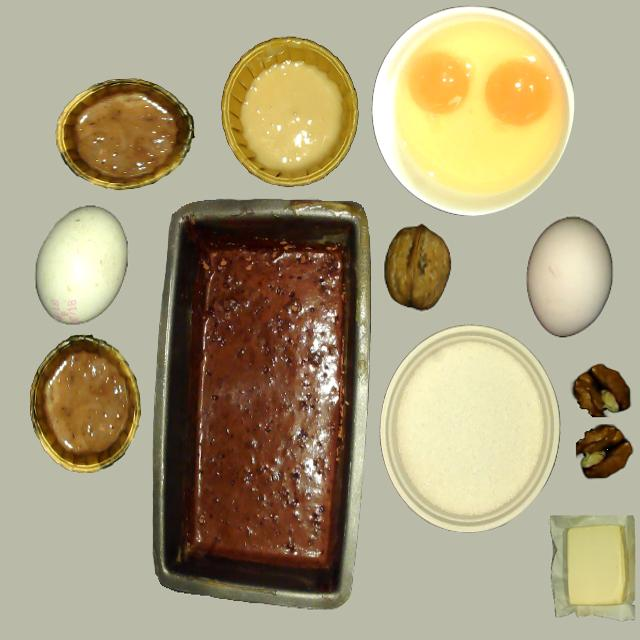Egg: (484, 59, 554, 127), (409, 52, 472, 116)
Sugar: (393, 338, 545, 521)
Walnut: (384, 226, 450, 310)
